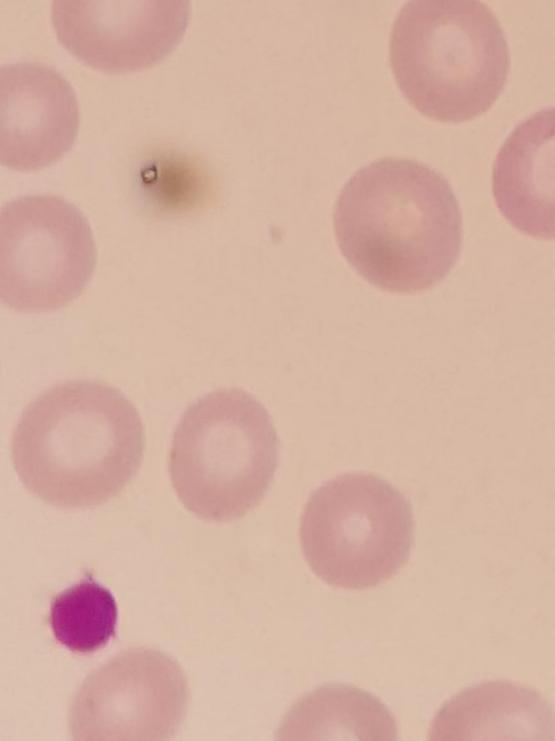Uninfected: (9, 379, 145, 510), (334, 155, 458, 293), (389, 0, 510, 126), (166, 389, 280, 521), (295, 471, 414, 589), (70, 646, 189, 740), (0, 194, 96, 310), (53, 0, 186, 71), (1, 63, 82, 167), (493, 105, 551, 235)
